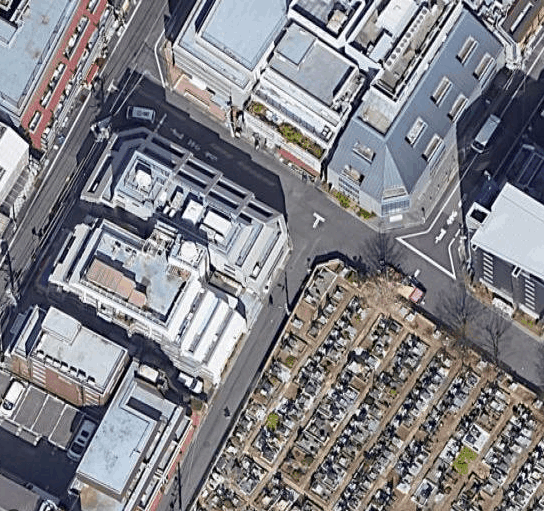facility: (63, 218, 200, 336), (115, 158, 246, 255), (366, 0, 443, 79), (469, 0, 542, 42), (290, 0, 364, 35)
rooftop: (240, 19, 378, 155), (2, 294, 134, 406), (79, 366, 187, 501)
